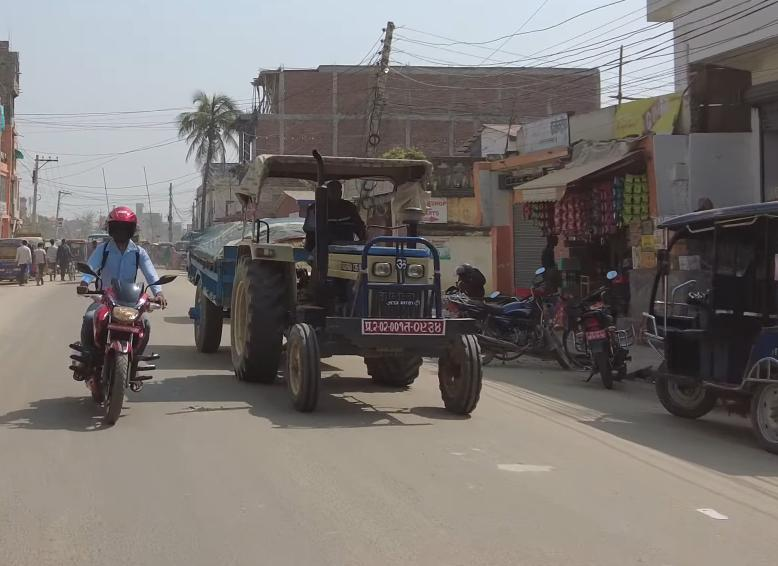bike: (66, 262, 179, 431), (440, 274, 575, 373), (567, 287, 627, 390)
e-rickshaw: (638, 192, 778, 455)
tractor: (232, 141, 488, 426)
